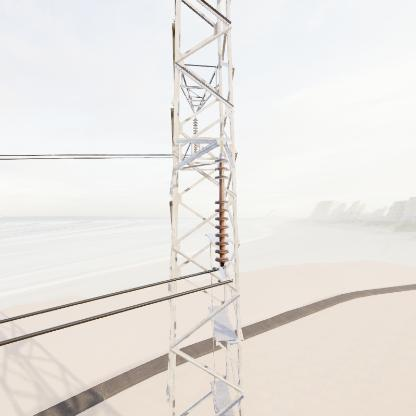insulator: (213, 156, 233, 270)
